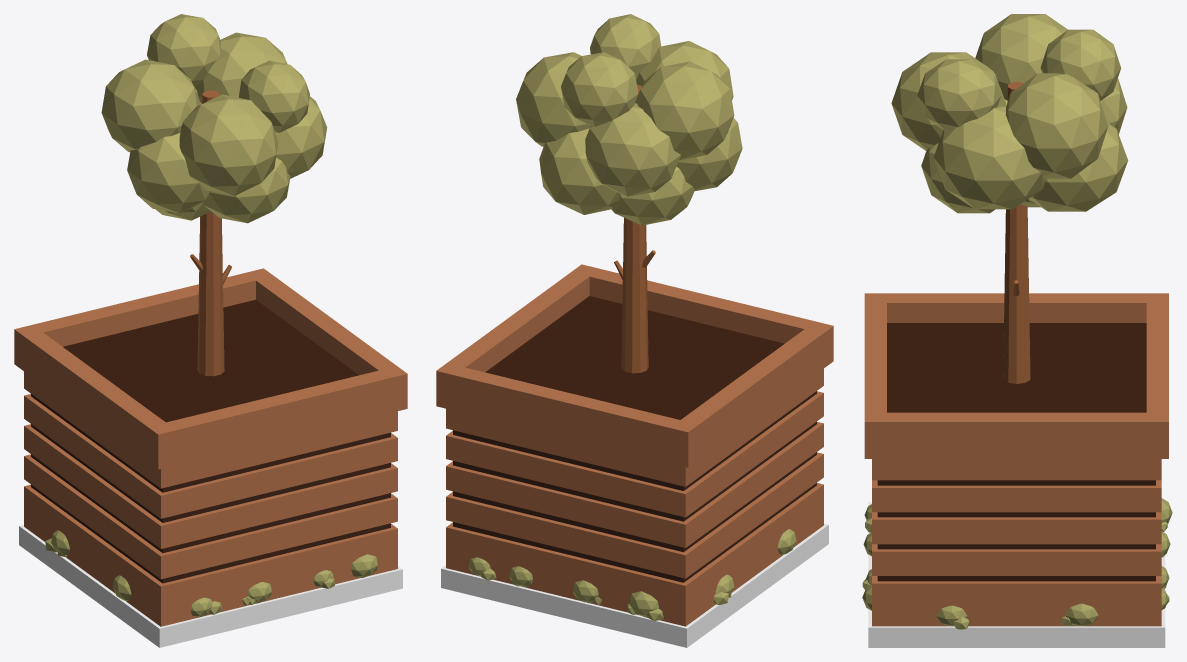
Rendered from 38-tree-planter-box-bs5.glb.
The picture shows the model from 3 angles, left to right: view 1: azimuth 30°, elevation 25°; view 2: azimuth 150°, elevation 25°; view 3: azimuth 270°, elevation 25°; orthographic projection. The views are drawn at different scales.
Visible parts, largest first — view 1: SoilInside, RimS, Slat2, Slat3, Slat4, Slat1, SoilBed, Lobe6, Slat5, RimW, GrooveCore, Lobe4 (+10 smaller); view 2: SoilInside, RimN, Slat2, Slat4, Slat3, Slat1, SoilBed, Slat5, RimW, GrooveCore, Lobe4, RimS (+11 smaller); view 3: SoilInside, RimE, Slat3, Slat4, Lobe5, Slat2, Slat1, Lobe8, RimW, SoilBed, GrooveCore, Slat5 (+12 smaller).
Part boxes in pixels (x1,y1,x2,y2): SoilInside: [63, 299, 358, 422]; RimS: [147, 366, 407, 469]; Slat2: [24, 454, 397, 579]; Slat3: [24, 424, 397, 548]; Slat4: [24, 394, 397, 518]; Slat1: [24, 484, 397, 609]; SoilBed: [19, 525, 402, 647]; Lobe6: [179, 94, 278, 195]; Slat5: [24, 371, 397, 488]; RimW: [24, 332, 165, 461]; GrooveCore: [31, 394, 390, 583]; Lobe4: [101, 59, 200, 152]; SoilInside: [485, 296, 784, 419]; RimN: [436, 363, 698, 467]; Slat2: [446, 452, 823, 578]; Slat4: [446, 391, 823, 517]; Slat3: [446, 422, 823, 547]; Slat1: [446, 483, 823, 608]; SoilBed: [441, 523, 828, 647]; Slat5: [446, 368, 823, 486]; RimW: [681, 329, 823, 459]; GrooveCore: [453, 391, 816, 582]; Lobe4: [635, 61, 734, 160]; RimS: [571, 264, 833, 368]; SoilInside: [887, 323, 1146, 412]; RimE: [887, 412, 1146, 458]; Slat3: [872, 512, 1161, 544]; Slat4: [872, 480, 1161, 512]; Lobe5: [1005, 73, 1108, 178]; Slat2: [872, 544, 1161, 575]; Slat1: [872, 576, 1161, 607]; Lobe8: [933, 105, 1045, 209]; RimW: [887, 293, 1146, 322]; SoilBed: [868, 502, 1165, 647]; GrooveCore: [877, 480, 1155, 581]; Slat5: [872, 459, 1161, 480].
Size of the model in its own units: 1.69 by 3.31 by 1.67.
